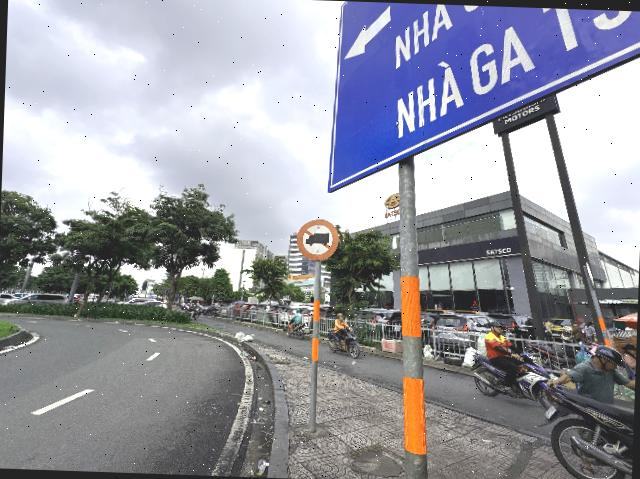cam-xe-tai: (295, 218, 339, 262)
